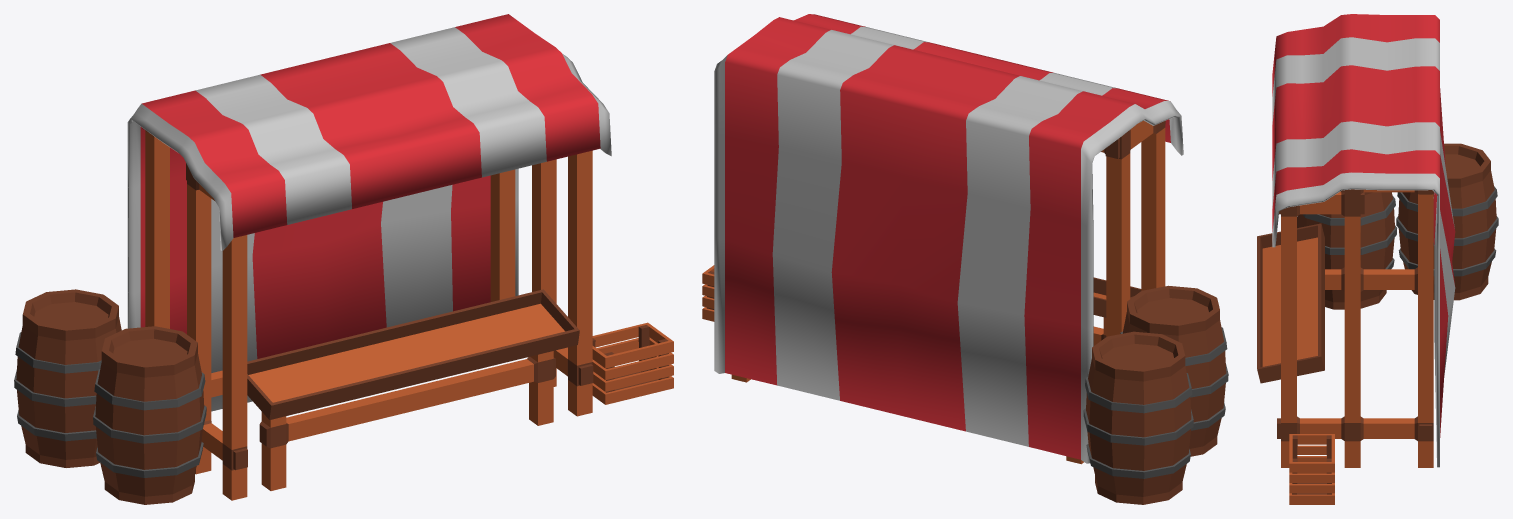
Rendered from MarketStallR.fbx.
3 views of the same model, side by side, from view 1: azimuth 30°, elevation 25°; view 2: azimuth 150°, elevation 25°; view 3: azimuth 270°, elevation 25° (orthographic). The views are drawn at different scales.
Visible parts, largest first — view 1: MarketStall.003; view 2: MarketStall.003; view 3: MarketStall.003.
Part boxes in pixels (box(x1,y1,x2,y2)): MarketStall.003: box(14, 14, 673, 504); MarketStall.003: box(702, 14, 1228, 504); MarketStall.003: box(1257, 14, 1498, 504).
Size of the model in its own units: 3.6 by 2.06 by 1.52.
